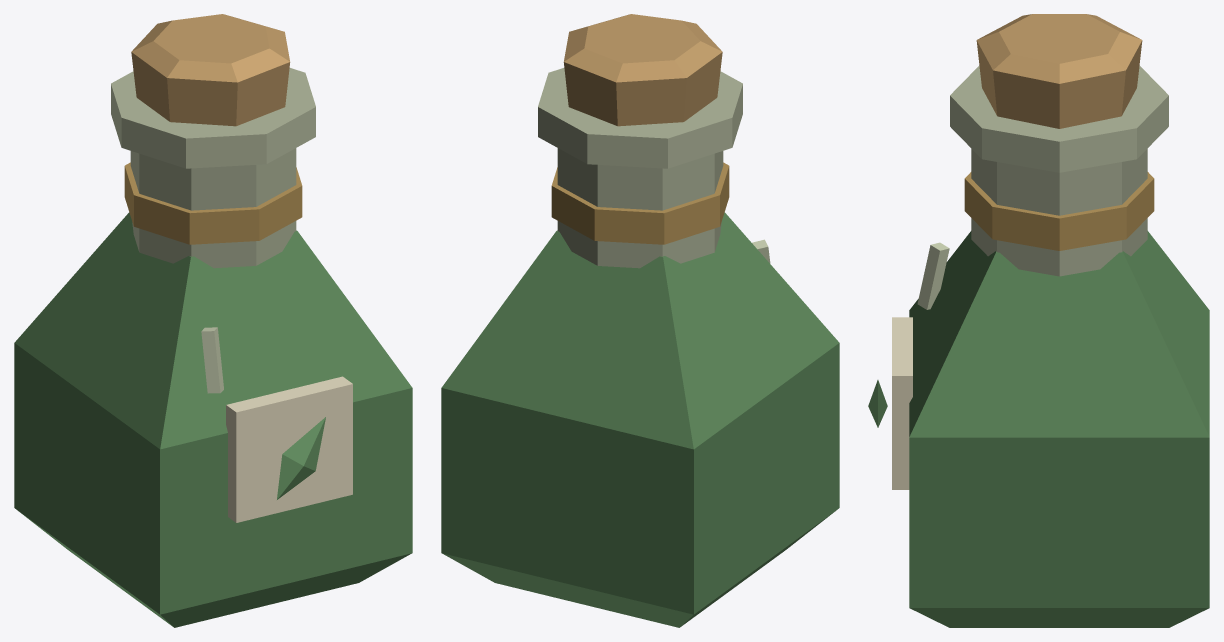
The model's file is item_potion_stamina.glb.
3 views of the same model, side by side, from view 1: azimuth 30°, elevation 25°; view 2: azimuth 150°, elevation 25°; view 3: azimuth 270°, elevation 25° (orthographic). The views are drawn at different scales.
Visible parts, largest first — view 1: item_potion_stamina; view 2: item_potion_stamina; view 3: item_potion_stamina.
Boxes of the visible parts, box(x1,y1,x2,y2) form: item_potion_stamina: box(14, 14, 412, 627); item_potion_stamina: box(441, 14, 839, 627); item_potion_stamina: box(868, 14, 1209, 627).
Bounding box in the file's own units: 0.1838 × 0.367 × 0.2089.
